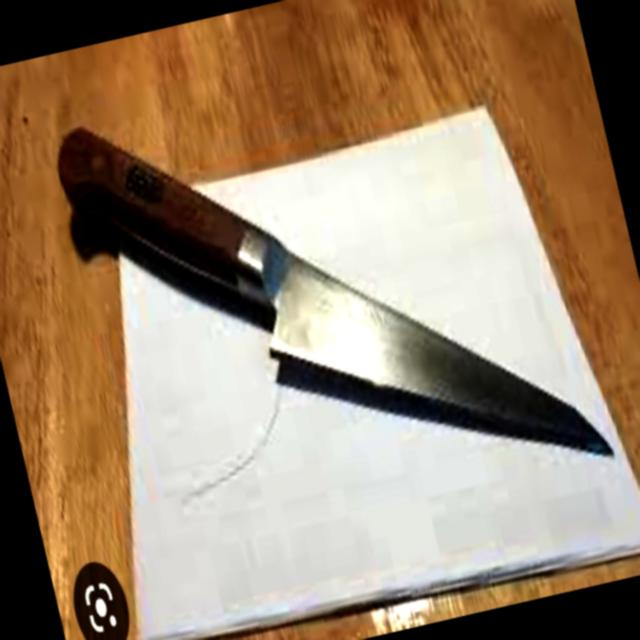knife: (30, 0, 637, 597)
